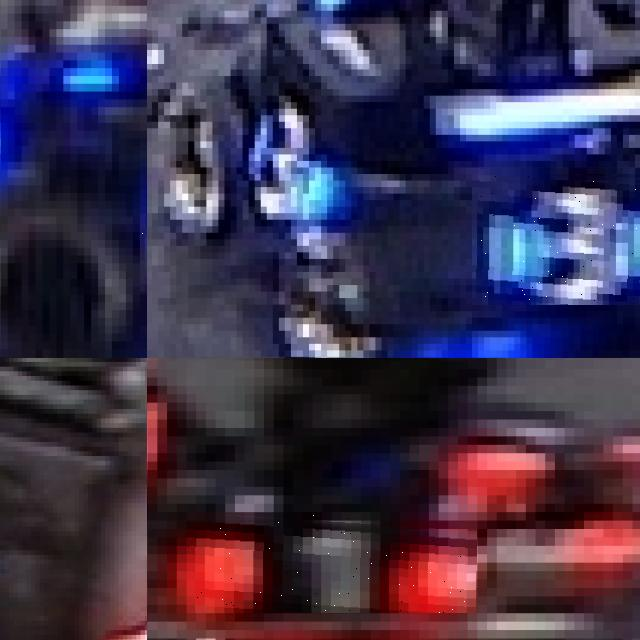B3: (471, 167, 640, 304), (237, 89, 345, 220)
R1: (187, 512, 477, 613)
